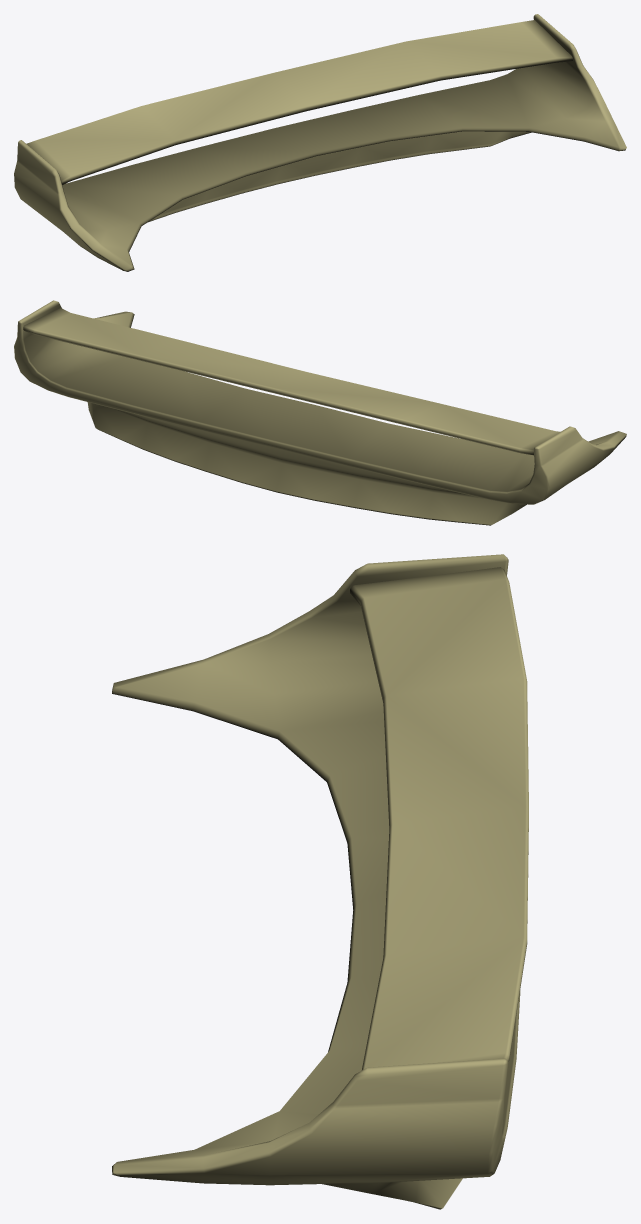
The model's file is G37_Spoiler_03_Duco.fbx.
3 views of the same model, one above another, from view 1: azimuth 30°, elevation 25°; view 2: azimuth 150°, elevation 25°; view 3: azimuth 270°, elevation 25° (orthographic). The views are drawn at different scales.
Visible parts, largest first — view 1: G37_Spoiler_03_Duco; view 2: G37_Spoiler_03_Duco; view 3: G37_Spoiler_03_Duco.
Boxes of the visible parts, left/top/right/bottom form: G37_Spoiler_03_Duco: left=14, top=14, right=626, bottom=271; G37_Spoiler_03_Duco: left=14, top=300, right=626, bottom=525; G37_Spoiler_03_Duco: left=112, top=554, right=528, bottom=1209.
Size of the model in its own units: 147 by 28.39 by 49.53.
